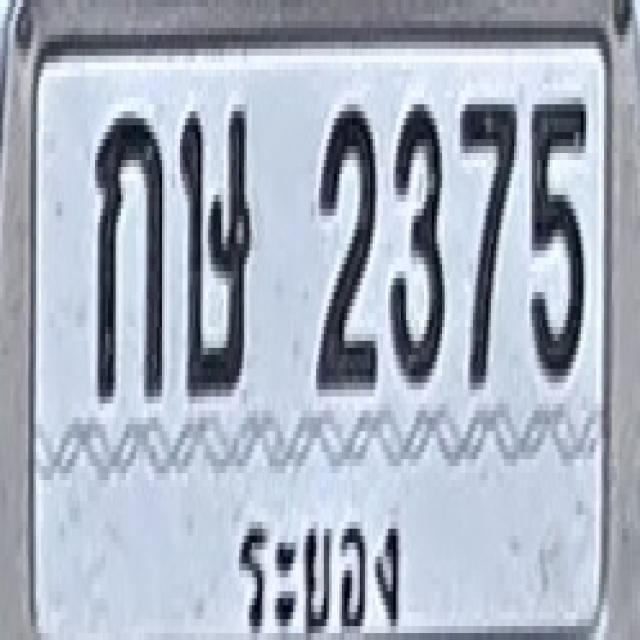2: (315, 101, 376, 386)
3: (388, 98, 445, 382)
5: (530, 94, 586, 379)
7: (459, 98, 515, 390)
A01: (94, 111, 163, 396)
A39: (178, 105, 250, 396)
RYG: (229, 494, 406, 640)
